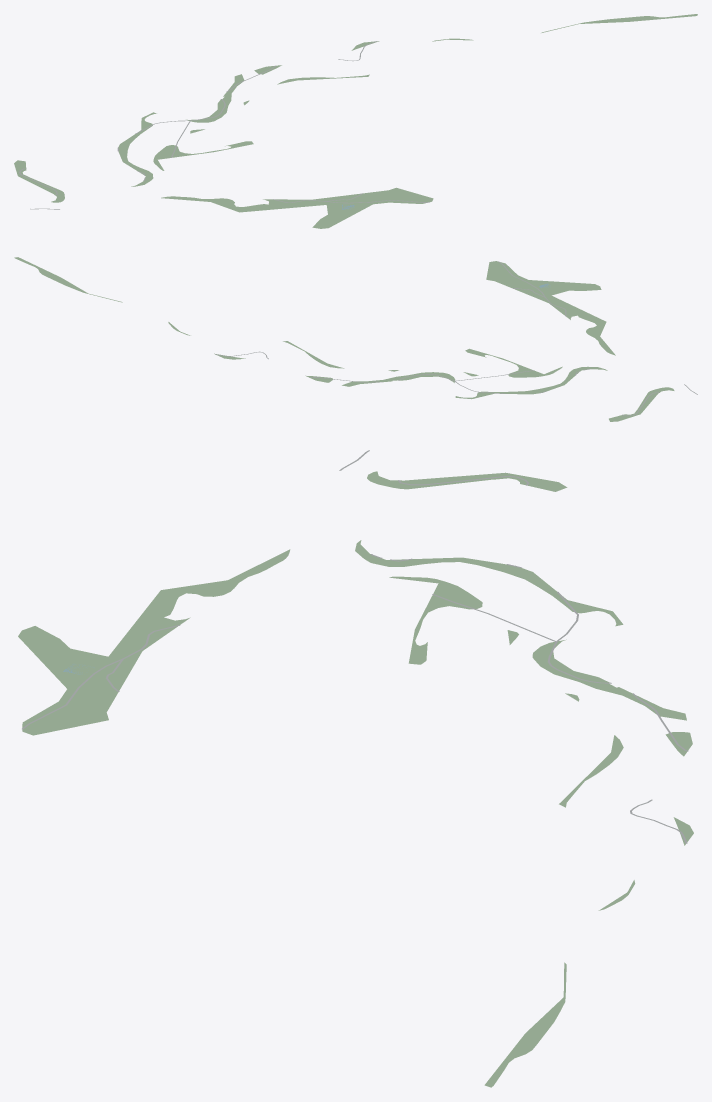
File: overview-known--3_8.glb
3 renders of one model, top to bottom at view 1: azimuth 30°, elevation 25°; view 2: azimuth 150°, elevation 25°; view 3: azimuth 270°, elevation 25°, orthographic. The views are drawn at different scales.
Size of the model in its own units: 2204 by 0.4466 by 988.
